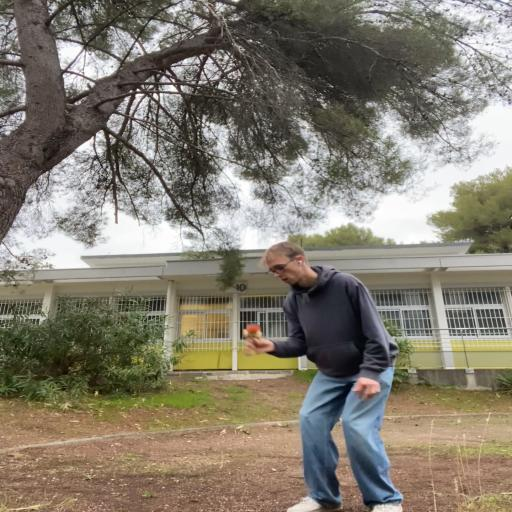kendama_ball: (246, 324, 261, 334)
